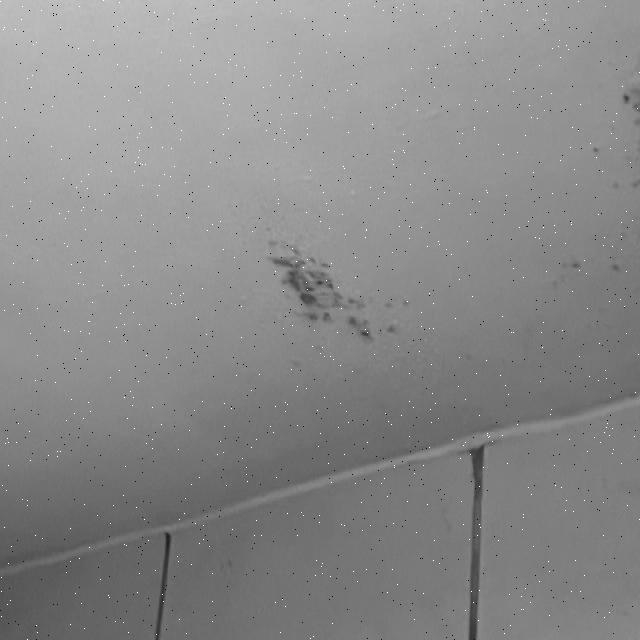stain marks: (254, 236, 380, 351), (609, 52, 640, 282), (554, 242, 586, 296), (379, 307, 409, 352), (581, 143, 610, 172)
